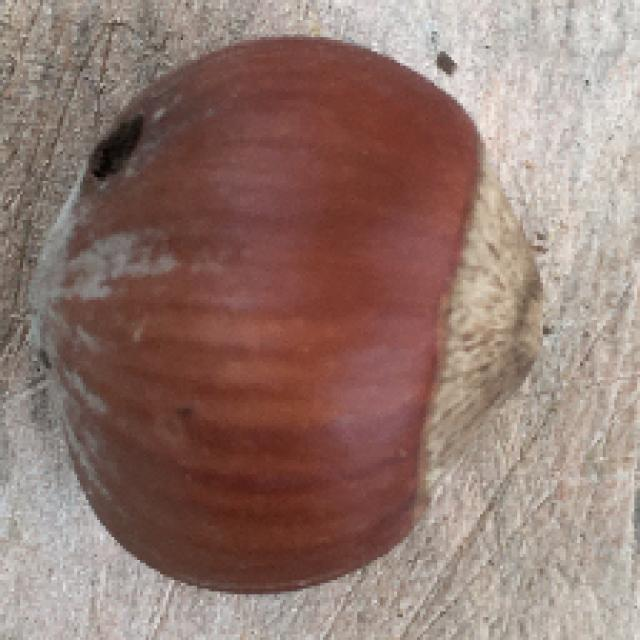damagedHazelnut: (30, 30, 542, 597)
